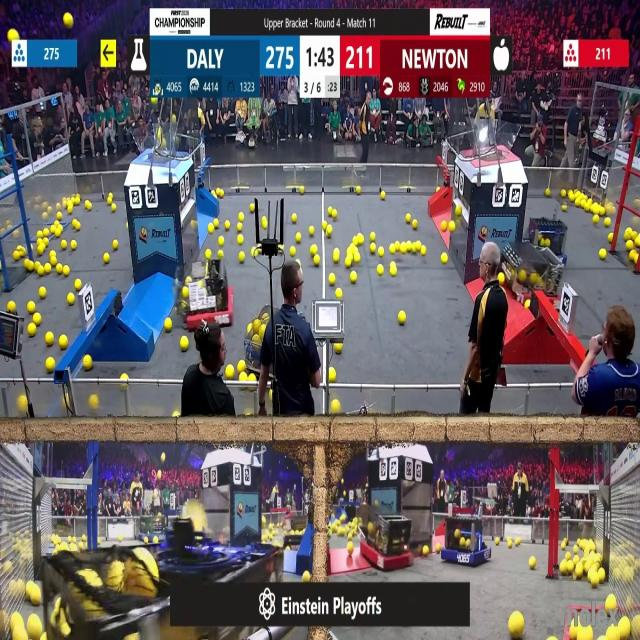ball_airborne: (65, 14, 73, 28), (8, 30, 17, 41), (155, 470, 161, 478), (162, 453, 166, 462), (172, 114, 177, 121)
ball_ground: (508, 615, 522, 640), (29, 584, 39, 605), (605, 596, 615, 612), (45, 357, 54, 371), (566, 562, 575, 576), (61, 625, 70, 639), (327, 367, 335, 382), (60, 336, 68, 351), (225, 364, 233, 378), (91, 394, 99, 408), (83, 355, 91, 369), (180, 338, 188, 352), (590, 573, 598, 587), (45, 334, 53, 347), (574, 565, 582, 578), (331, 399, 338, 413), (165, 318, 172, 332), (238, 360, 246, 372), (389, 265, 396, 278), (598, 569, 605, 582), (28, 303, 36, 314), (331, 251, 339, 262), (27, 262, 35, 273), (630, 251, 638, 262), (569, 628, 577, 639), (592, 204, 600, 215), (68, 292, 75, 304), (8, 302, 15, 314), (529, 557, 536, 569), (34, 313, 41, 325), (304, 570, 311, 582), (560, 563, 567, 575), (356, 236, 364, 246), (398, 312, 404, 325), (599, 249, 606, 260), (378, 266, 385, 277), (350, 273, 357, 284), (336, 343, 343, 354), (346, 256, 353, 267), (29, 324, 36, 335), (498, 273, 505, 284), (455, 205, 462, 216), (39, 287, 45, 299), (328, 274, 334, 286), (50, 252, 56, 264), (408, 240, 414, 252), (63, 267, 70, 277), (627, 240, 634, 250), (311, 245, 318, 255), (61, 240, 68, 250), (386, 243, 393, 253), (44, 266, 51, 276), (37, 244, 44, 254), (75, 280, 81, 291), (337, 288, 343, 299), (400, 243, 406, 254), (420, 246, 427, 255), (240, 373, 247, 382), (237, 222, 244, 231), (443, 252, 449, 262), (104, 252, 110, 262), (314, 255, 320, 265), (369, 233, 375, 243), (240, 252, 246, 262), (450, 221, 456, 231), (206, 250, 212, 260), (369, 244, 375, 254), (348, 542, 354, 552), (442, 220, 448, 230), (57, 266, 63, 276), (423, 544, 429, 554), (394, 242, 400, 252), (263, 218, 269, 228), (38, 267, 44, 277), (13, 251, 19, 261), (182, 287, 188, 297), (625, 230, 631, 240), (524, 302, 531, 310), (120, 374, 127, 382), (347, 247, 354, 255), (115, 534, 122, 542), (334, 209, 341, 217), (326, 225, 331, 236), (108, 192, 113, 203), (354, 253, 360, 262), (379, 247, 385, 256), (74, 221, 80, 230), (608, 234, 614, 243), (407, 214, 413, 223), (238, 236, 244, 245), (594, 215, 600, 224), (604, 217, 610, 226), (87, 202, 93, 211), (74, 198, 80, 207), (71, 241, 76, 251), (224, 220, 229, 230), (295, 234, 300, 244), (307, 226, 312, 236), (566, 553, 571, 563), (253, 249, 260, 256), (218, 238, 224, 246), (208, 224, 214, 232), (435, 543, 441, 551), (218, 188, 224, 196), (298, 186, 304, 194), (250, 374, 256, 382), (415, 242, 421, 250), (214, 220, 220, 228), (43, 230, 49, 238), (56, 230, 62, 238), (218, 249, 223, 258), (112, 241, 117, 250), (239, 212, 244, 221), (413, 219, 418, 228), (250, 204, 255, 213), (568, 190, 573, 199), (635, 239, 640, 248), (68, 207, 74, 214), (290, 247, 295, 255), (544, 188, 549, 196), (517, 537, 522, 545), (507, 539, 512, 547), (495, 537, 500, 545), (327, 208, 332, 216), (561, 188, 566, 196), (574, 200, 579, 208), (342, 512, 347, 520), (381, 191, 386, 198), (111, 205, 116, 212), (356, 186, 361, 193), (562, 205, 567, 212), (120, 538, 125, 545), (561, 542, 566, 549), (292, 214, 296, 222), (58, 212, 62, 220), (185, 277, 190, 283), (322, 221, 326, 228)
goal: (465, 123, 521, 160), (129, 128, 189, 160)
robot_blue: (441, 516, 490, 568), (530, 215, 570, 266), (136, 514, 168, 546)
robot_red: (178, 256, 233, 328), (361, 505, 415, 572)
